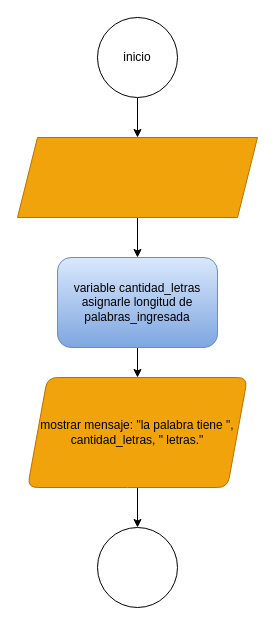
Image size: 275x625. Some labels were removed from this diagram. The shapes that lost their labels are listed below. From the top down, each one's box as (x1, y1, x2, y2) in pixels, then its label:
(16, 136, 258, 218): mostrar mensaje: "por favor ingrese una palabra"
(96, 526, 178, 608): fin
